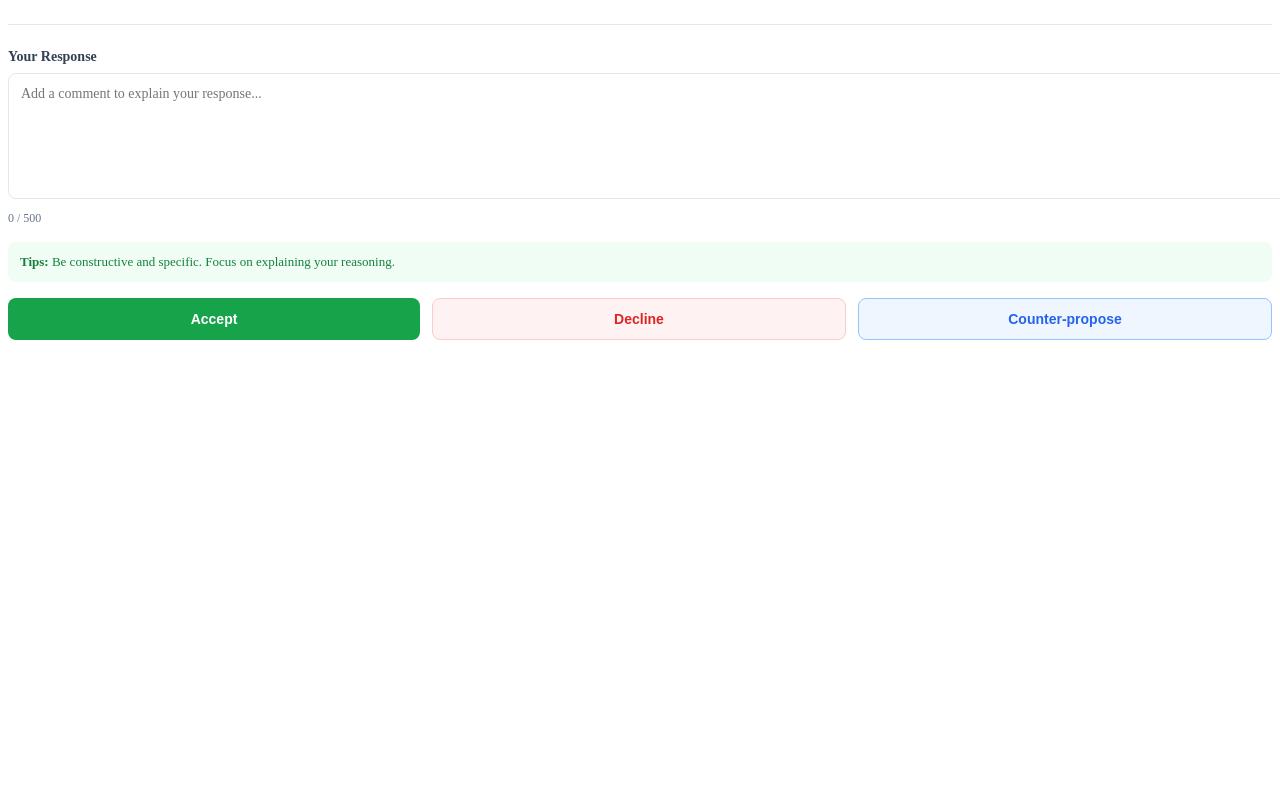
ProposalResponseForm - Story 34.3 › counter-propose flow › should show confirmation before counter-proposing
In the text box: (644, 136) [8,73,1279,199], type "How about a compromise?"
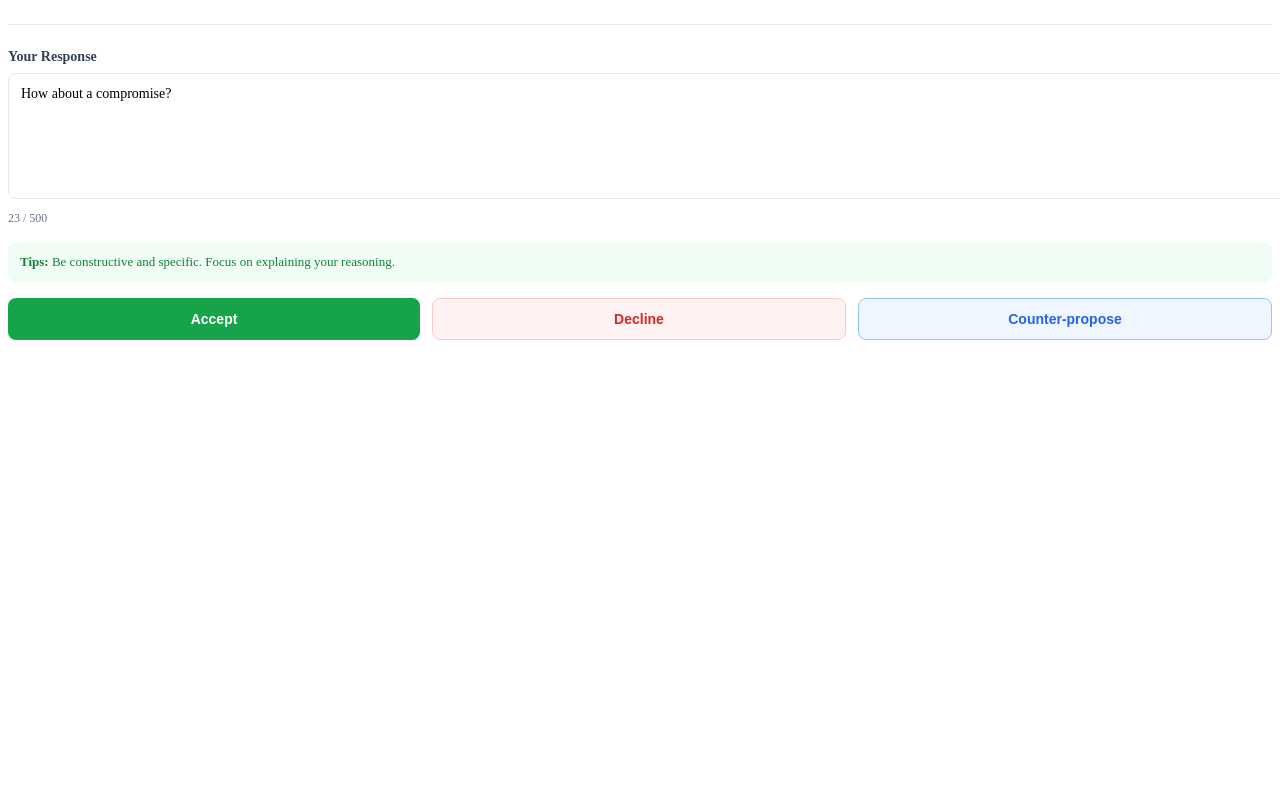
Click the button "Counter-propose": (1065, 319) [858,298,1272,340]
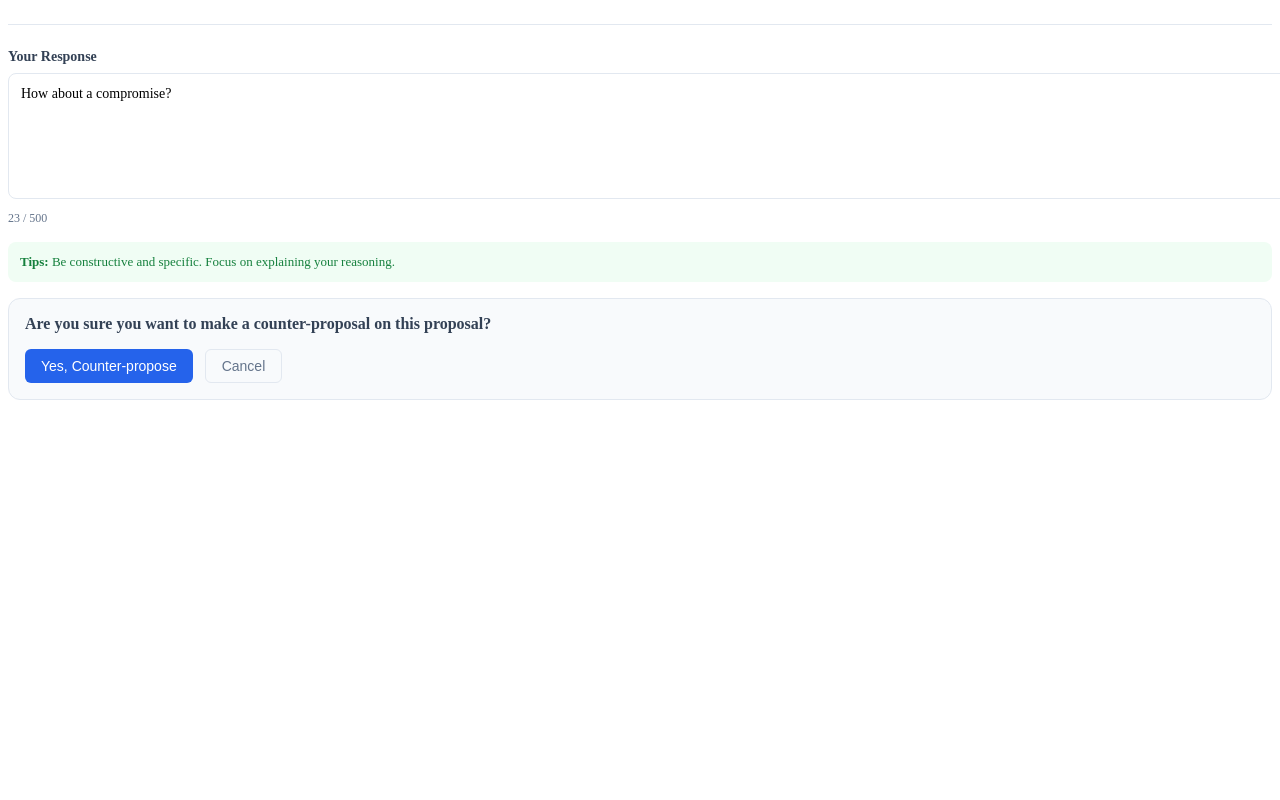
Expected: the dialog is shown, [8,298,1272,400]
Expected: the text "counter-proposal" is shown, [200,315,391,332]
